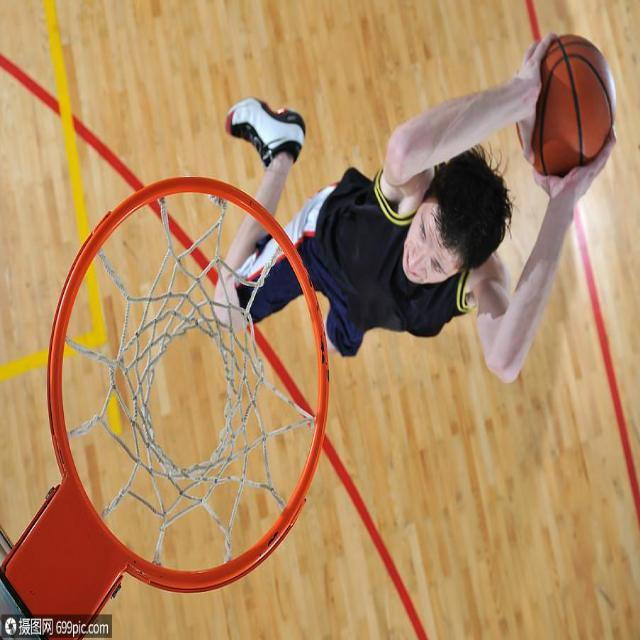rim: (514, 36, 618, 184)
